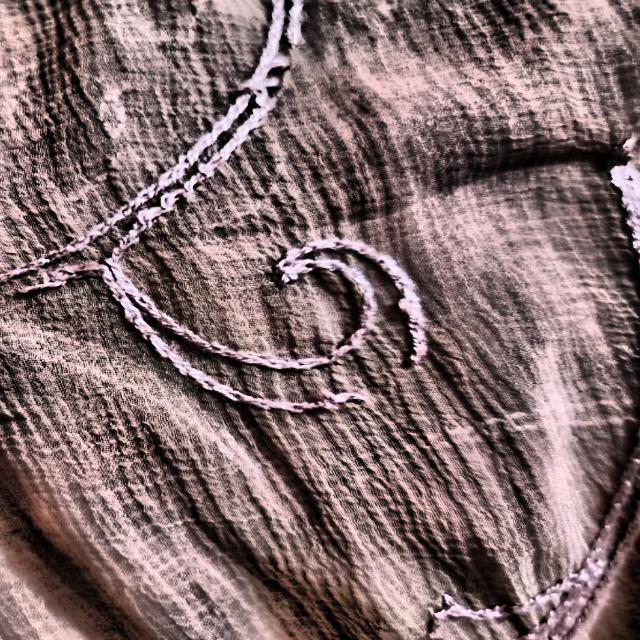Stitch: (301, 334, 474, 430)
